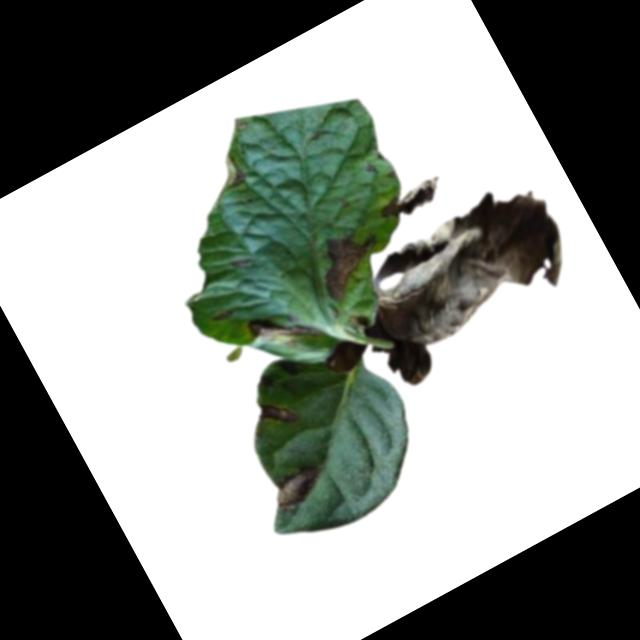Early_blight: (342, 175, 594, 391), (303, 219, 396, 306), (244, 292, 326, 368), (373, 169, 448, 228), (266, 460, 334, 519), (250, 389, 300, 439), (222, 166, 247, 190)
